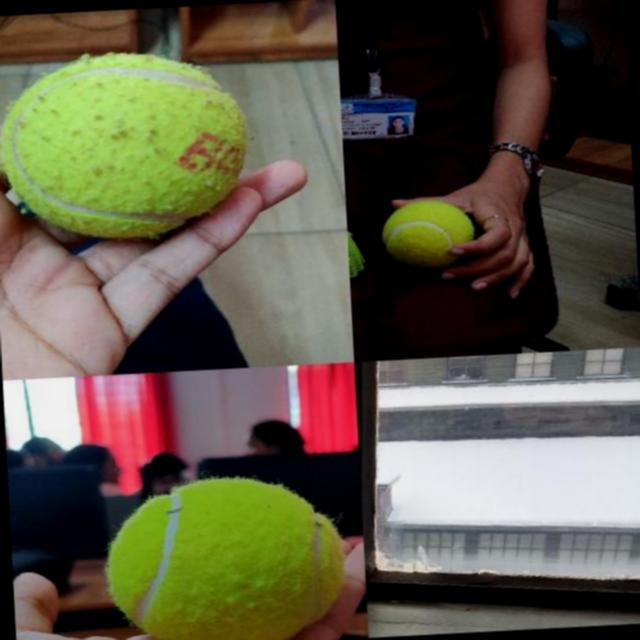Tennis Ball: (0, 45, 250, 247), (101, 472, 348, 640), (380, 198, 474, 268)
